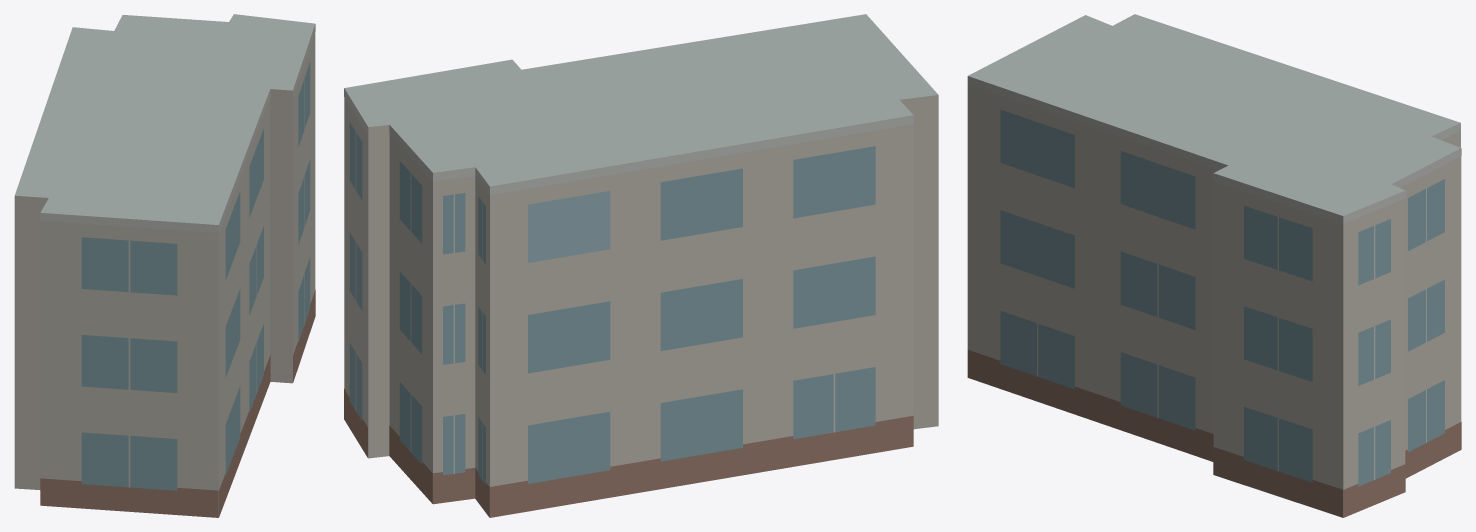
Rendered from survey-upis-32519104.glb.
The picture shows the model from 3 angles, left to right: view 1: azimuth 30°, elevation 25°; view 2: azimuth 150°, elevation 25°; view 3: azimuth 270°, elevation 25°; orthographic projection. The views are drawn at different scales.
Parts seen in each view (by area): view 1: survey-upis-32519104.tmp; view 2: survey-upis-32519104.tmp; view 3: survey-upis-32519104.tmp.
Part boxes in pixels (x1,y1,x2,y2): survey-upis-32519104.tmp: (14, 14, 315, 517); survey-upis-32519104.tmp: (344, 14, 938, 517); survey-upis-32519104.tmp: (967, 14, 1461, 517).
Size of the model in its own units: 13.15 by 9.15 by 13.58.
